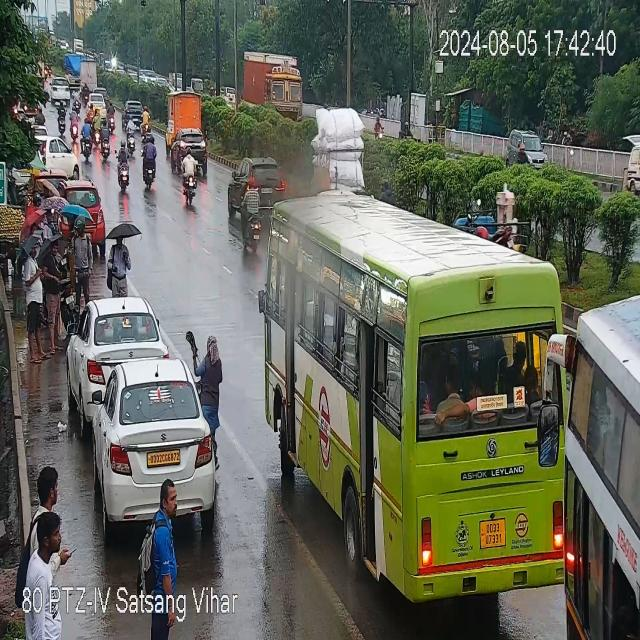2-wheelers: (238, 177, 262, 254), (176, 148, 201, 204), (140, 139, 161, 189), (116, 138, 130, 193), (99, 117, 112, 162), (80, 117, 92, 163), (373, 116, 387, 143), (126, 118, 137, 152), (142, 103, 151, 140), (58, 100, 66, 135), (70, 108, 78, 142)
auto: (503, 129, 554, 169)
bus: (261, 186, 571, 520), (540, 290, 640, 640), (452, 204, 541, 260)
car: (92, 359, 214, 520), (72, 296, 162, 403), (225, 156, 284, 210), (60, 181, 106, 240), (35, 136, 79, 181), (169, 130, 208, 169), (51, 76, 71, 105), (87, 95, 107, 115)
pedestrian: (26, 459, 71, 592), (140, 476, 184, 609), (189, 332, 221, 444), (43, 238, 68, 350), (26, 248, 44, 368), (70, 215, 93, 294), (106, 237, 129, 293)
truck: (239, 50, 319, 125), (165, 89, 201, 143), (64, 52, 97, 93), (121, 100, 143, 126)
